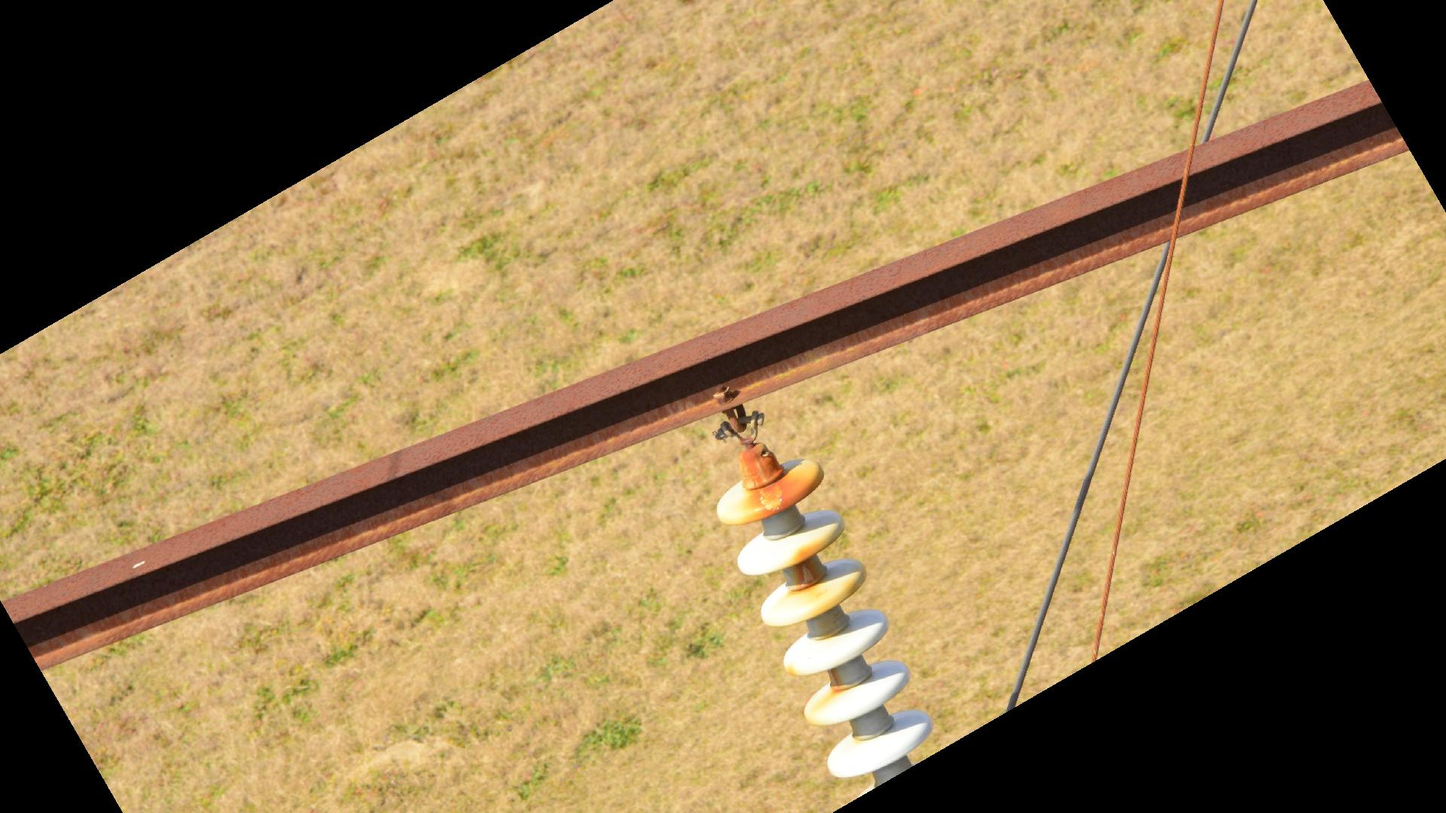insulator: (711, 453, 939, 782)
insulator_flashover: (752, 480, 787, 514)
